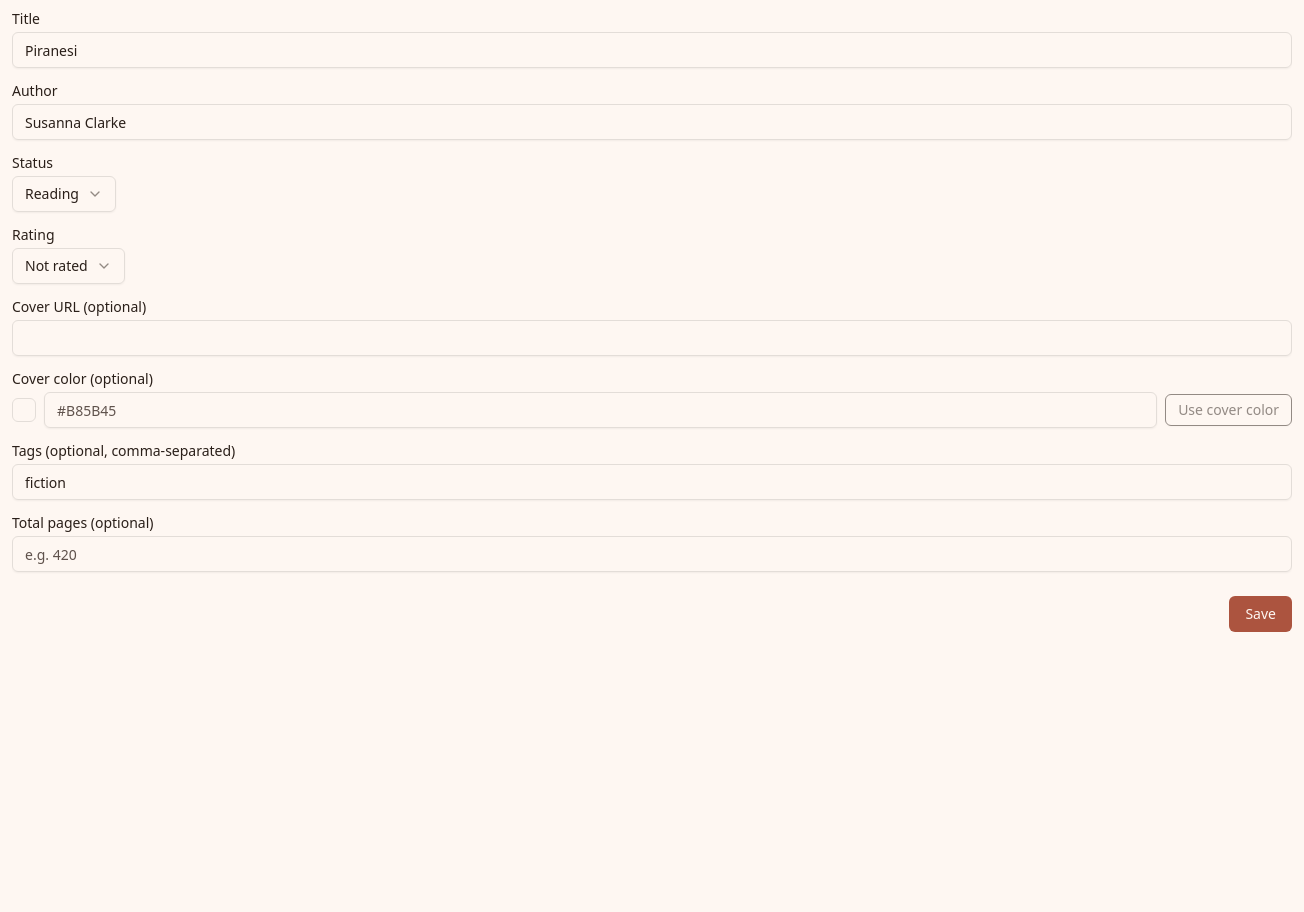
Test: BookForm › total pages field (spec 015) › rejects a decimal totalPages with an inline error
Type "12.5" into the number field labelled "Total pages (optional)" at point(652, 554), box [12,536,1292,572]
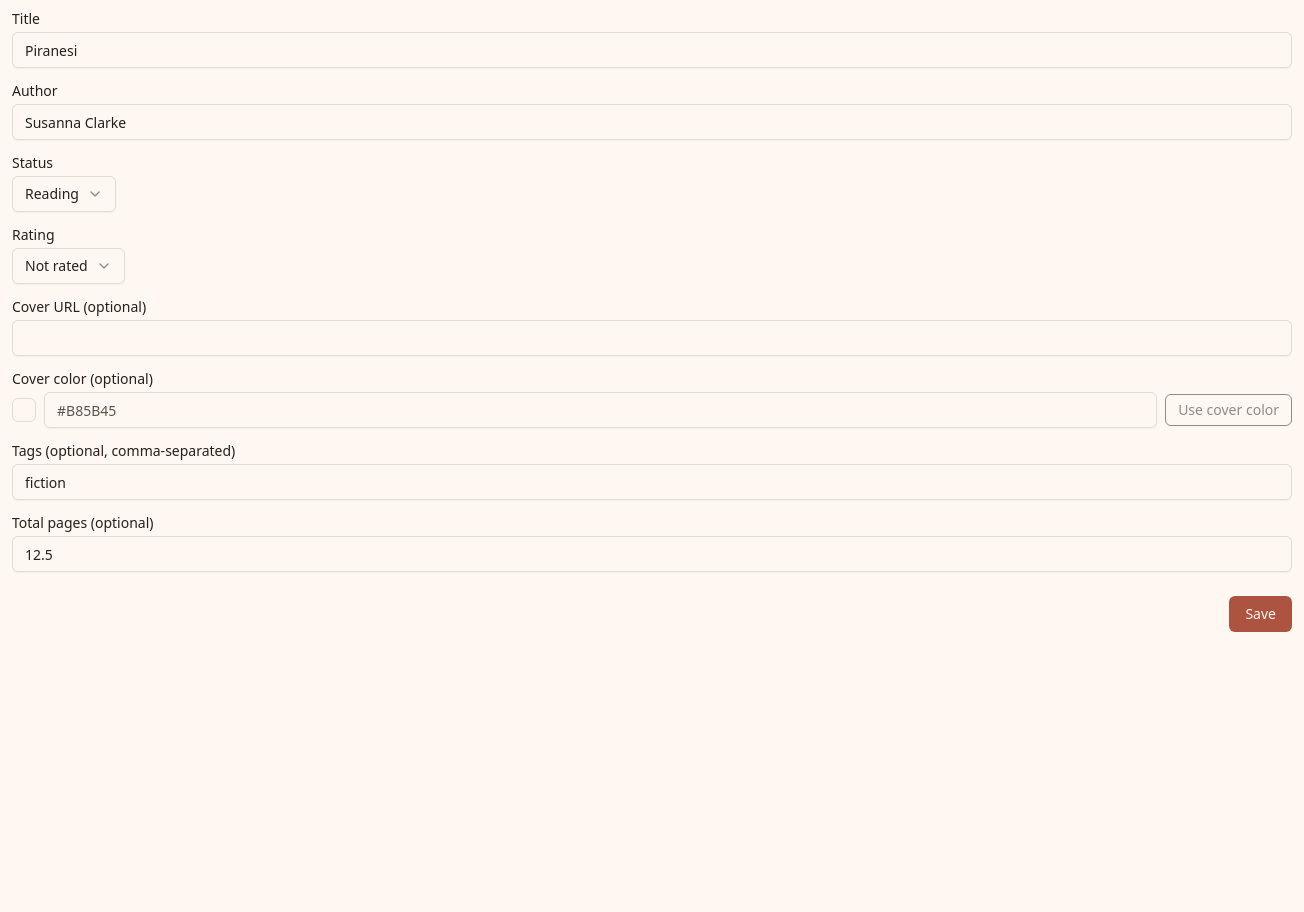
Click the button "Save" at point(1261, 614), box [1229,596,1292,632]
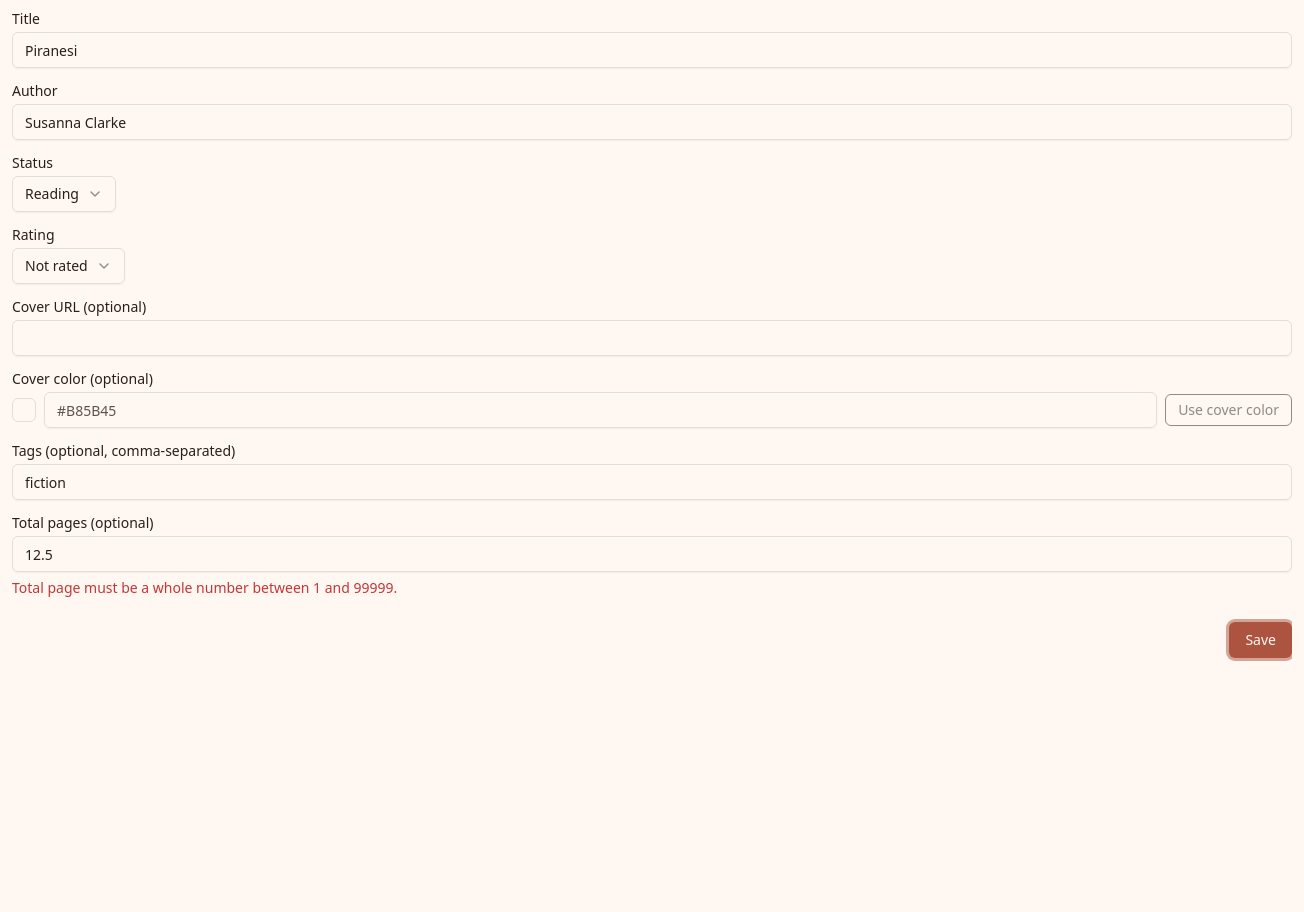
Check: the text "Total page must be a whole number between 1 and 99999." is shown, box [12,578,397,597]
